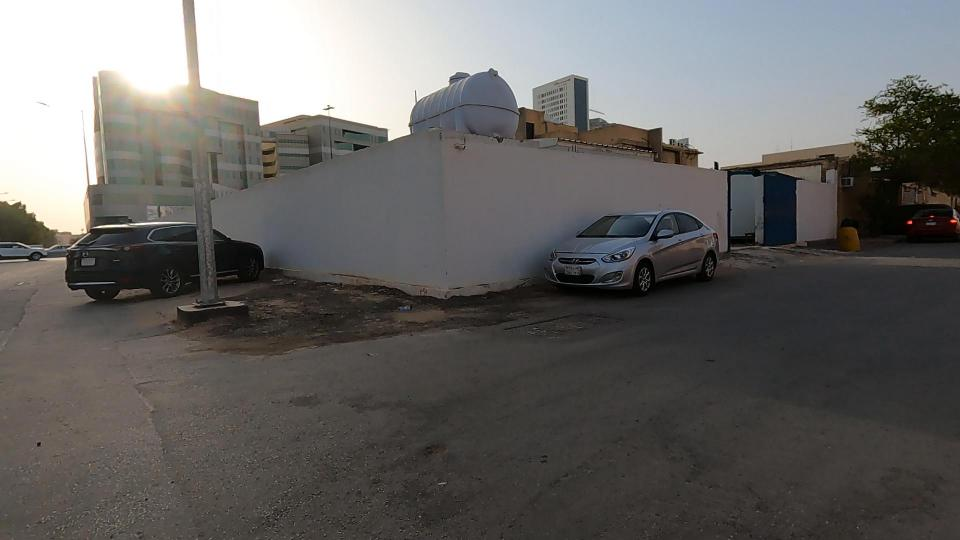GARBAGE: (137, 237, 499, 406), (796, 194, 901, 284)
